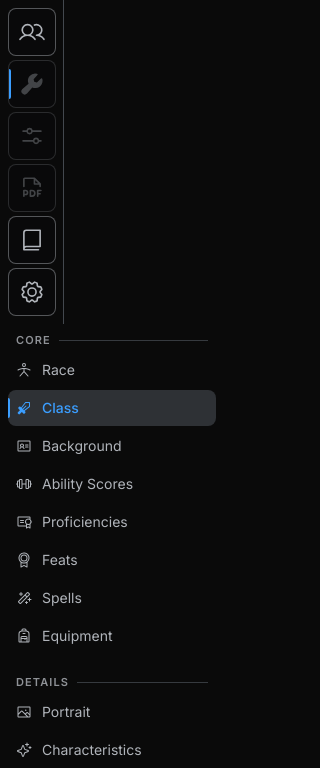
desktop workspace navigation › keeps application settings as a primary-rail utility
This screenshot has width=320, height=768.
Step 1. Click the button named "Characters" → point(32, 32), box [8,8,56,56]
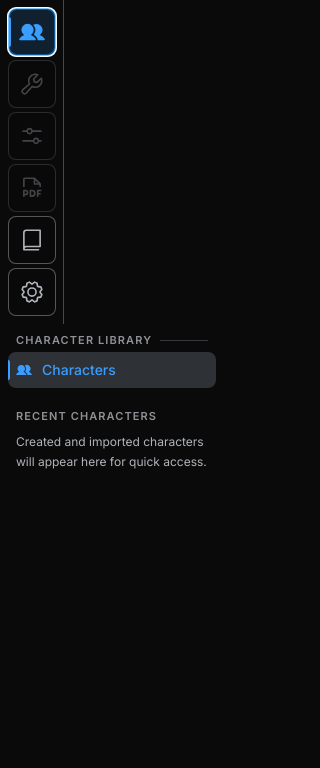
Check: the button named "Settings" is shown, box [8,268,56,316]
Check: the element named "Characters navigation" is shown, box [0,324,224,483]
Check: the link "Characters" is shown, box [8,352,216,388]
